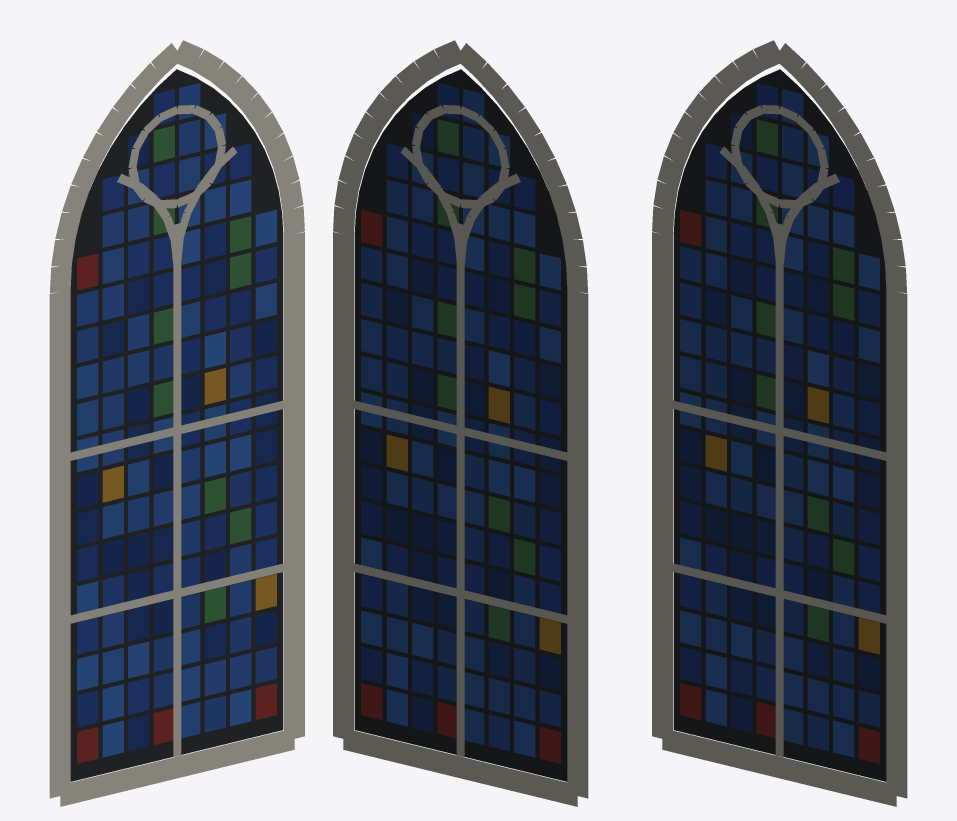
The model's file is window.stained.blue.glb.
3 renders of one model, left to right at view 1: azimuth 30°, elevation 25°; view 2: azimuth 150°, elevation 25°; view 3: azimuth 330°, elevation 25°, orthographic.
Parts seen in each view (by area): view 1: window_stained_blue; view 2: window_stained_blue; view 3: window_stained_blue.
Part boxes in pixels (<box>): window_stained_blue: <box>49,40,304,806</box>; window_stained_blue: <box>333,40,588,806</box>; window_stained_blue: <box>652,40,907,806</box>.
Size of what is drawn, in the model's own units: 2.2 by 6.07 by 0.534.
